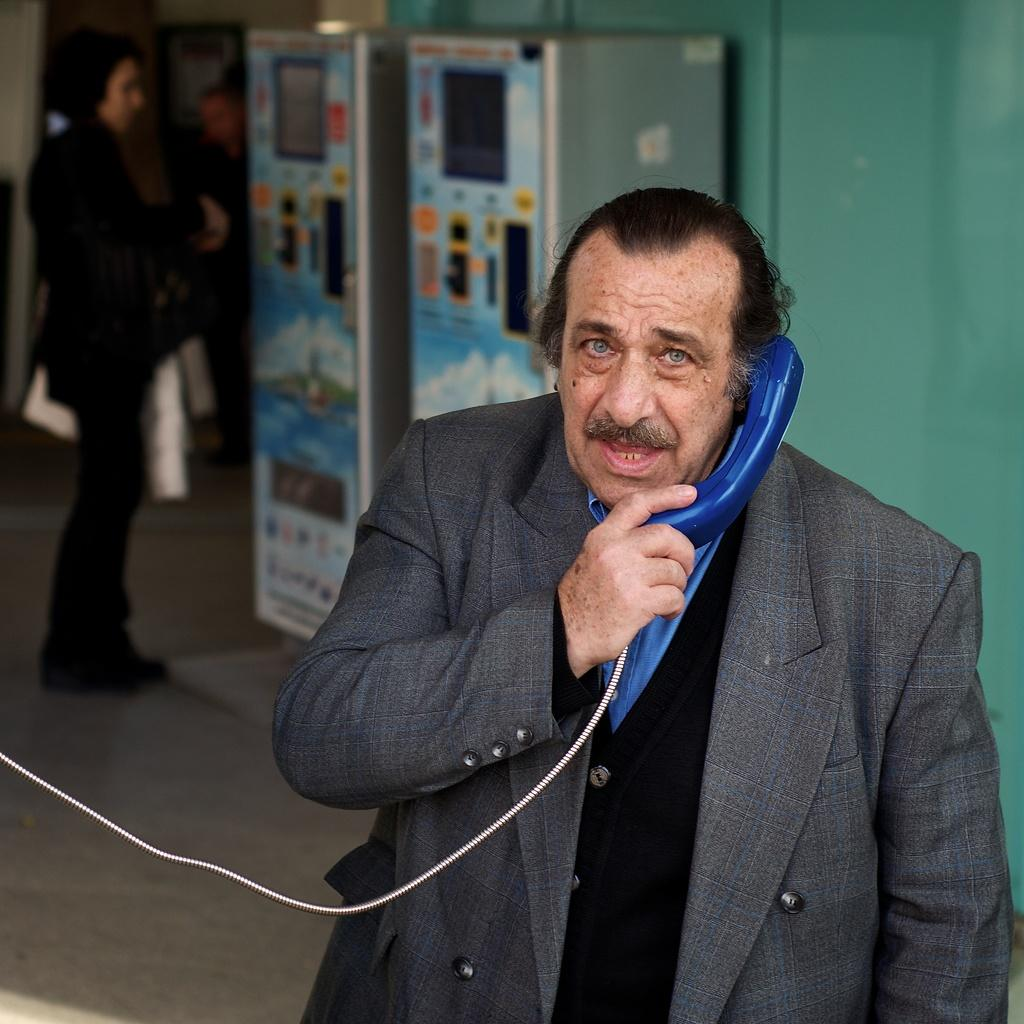Sem Máscara: (554, 248, 720, 506), (100, 59, 143, 133)
